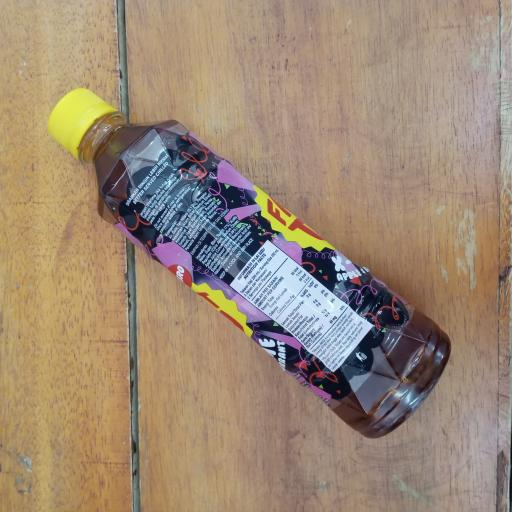Fruit Tea Apple BlackCurrent: (37, 75, 459, 445)
